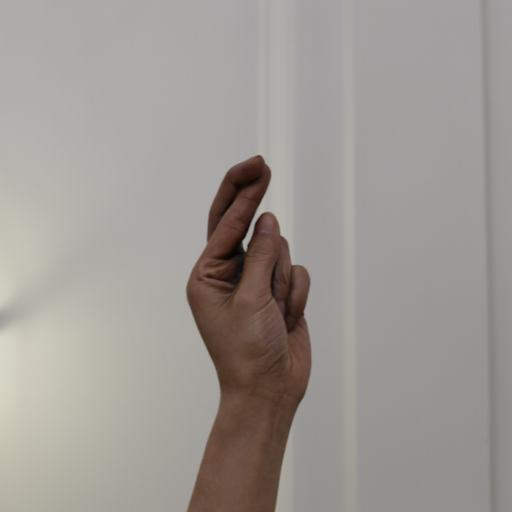R: (184, 149, 316, 415)
